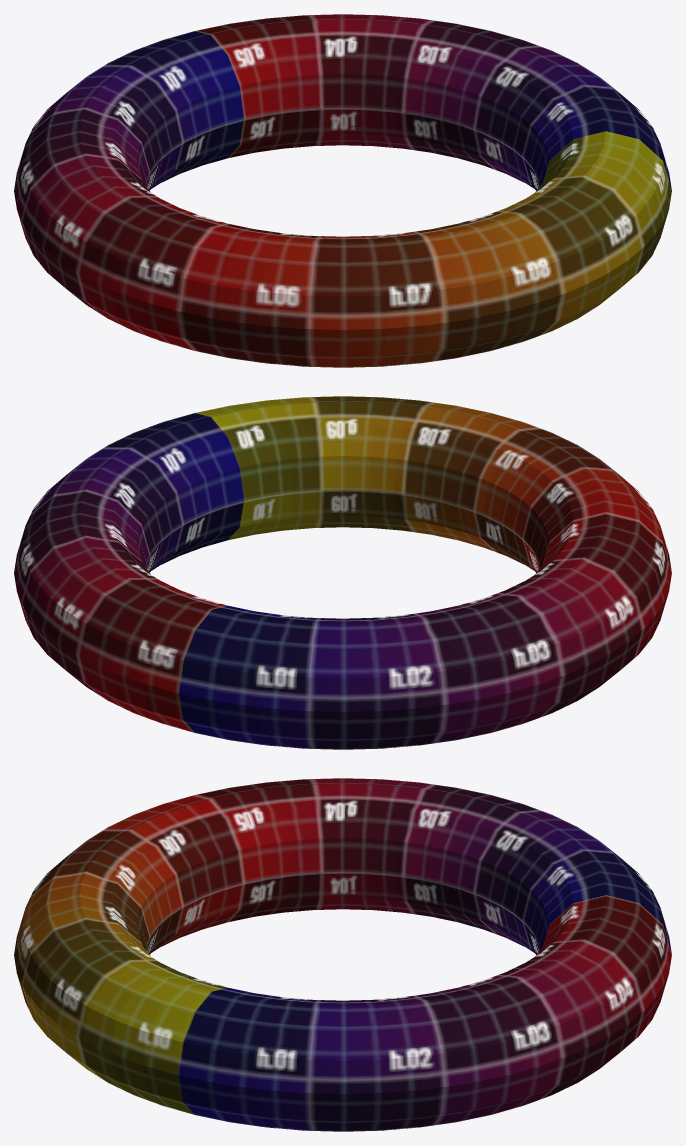
Rendered from torusUvmapped.obj.
3 views of the same model, one above another, from view 1: azimuth 30°, elevation 25°; view 2: azimuth 150°, elevation 25°; view 3: azimuth 270°, elevation 25° (orthographic).
Parts seen in each view (by area): view 1: Torus_SuperToroid; view 2: Torus_SuperToroid; view 3: Torus_SuperToroid.
Part boxes in pixels (<box>): Torus_SuperToroid: <box>14,14,671,367</box>; Torus_SuperToroid: <box>14,396,671,749</box>; Torus_SuperToroid: <box>14,778,671,1131</box>.
Bounding box in the file's own units: 2.5 × 0.5 × 2.5.
1 material, 1 textured.
